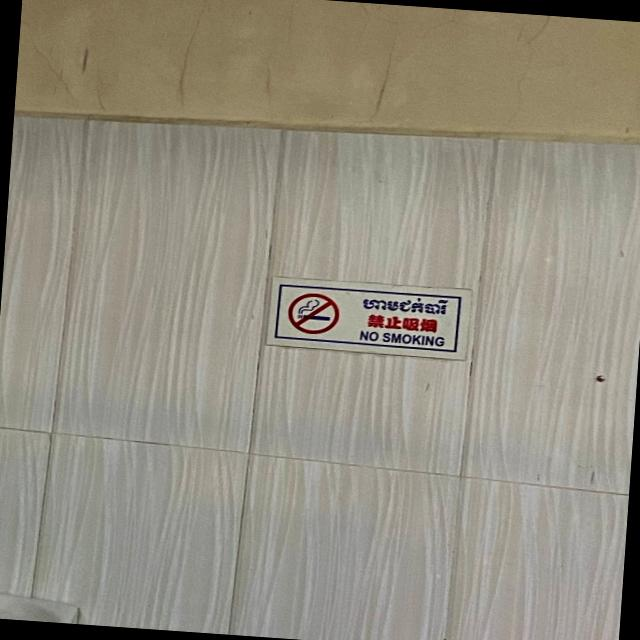Yolov11kh: (352, 289, 454, 320)
